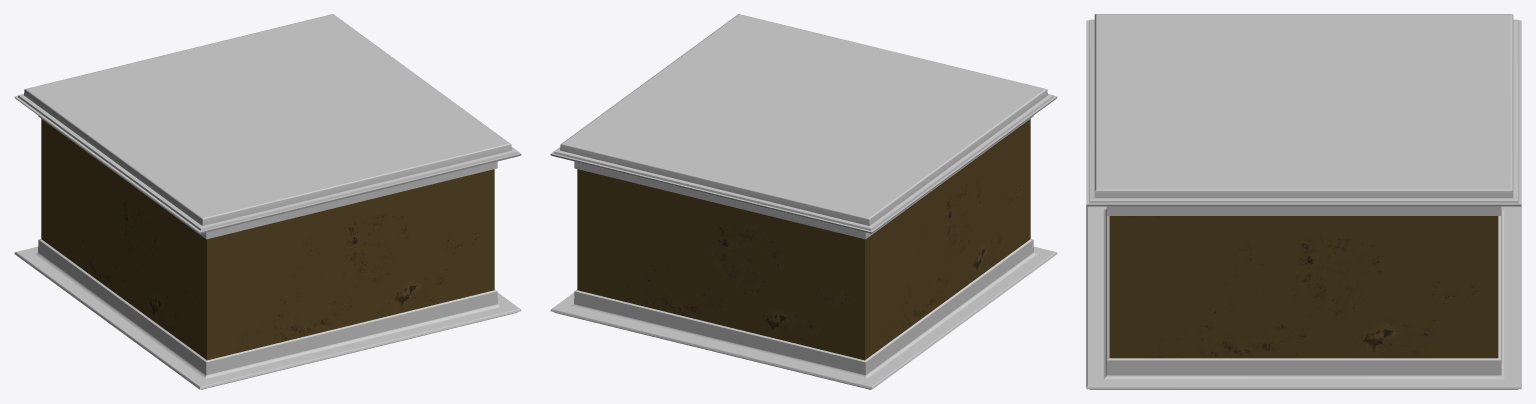
The model's file is PlatformStack.fbx.
The picture shows the model from 3 angles, left to right: view 1: azimuth 30°, elevation 25°; view 2: azimuth 150°, elevation 25°; view 3: azimuth 270°, elevation 25°; orthographic projection. The views are drawn at different scales.
Parts seen in each view (by area): view 1: PlatformStack; view 2: PlatformStack; view 3: PlatformStack.
Boxes of the visible parts, left/top/right/bottom form: PlatformStack: left=14, top=14, right=521, bottom=389; PlatformStack: left=550, top=14, right=1057, bottom=389; PlatformStack: left=1086, top=14, right=1521, bottom=389.
Bounding box in the file's own units: 300 × 150 × 300.
